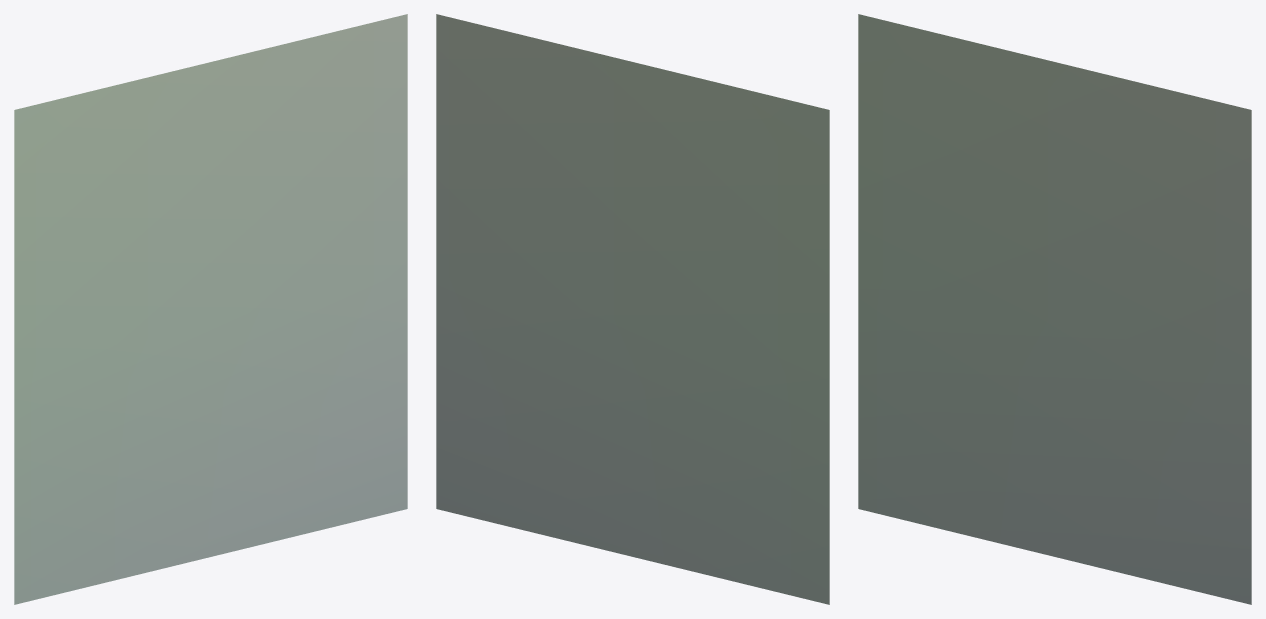
The picture shows the model from 3 angles, left to right: view 1: azimuth 30°, elevation 25°; view 2: azimuth 150°, elevation 25°; view 3: azimuth 330°, elevation 25°; orthographic projection.
Visible parts, largest first — view 1: 2C5CFA7148E048921EC1BDAA119F53E2; view 2: 2C5CFA7148E048921EC1BDAA119F53E2; view 3: 2C5CFA7148E048921EC1BDAA119F53E2.
Boxes of the visible parts, x1=… form: 2C5CFA7148E048921EC1BDAA119F53E2: x1=14, y1=14, x2=407, y2=604; 2C5CFA7148E048921EC1BDAA119F53E2: x1=436, y1=14, x2=829, y2=604; 2C5CFA7148E048921EC1BDAA119F53E2: x1=858, y1=14, x2=1251, y2=604.
Size of the model in its own units: 0 by 29.65 by 35.63.
